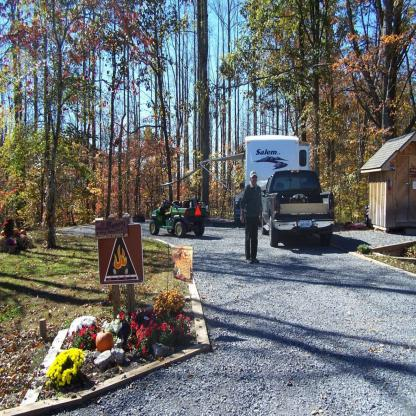Truck: (261, 158, 335, 252)
